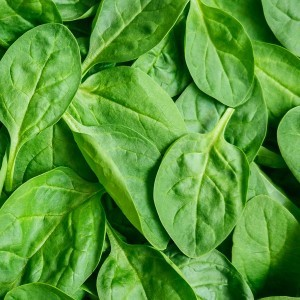spinach_brain food: (59, 94, 273, 248)
